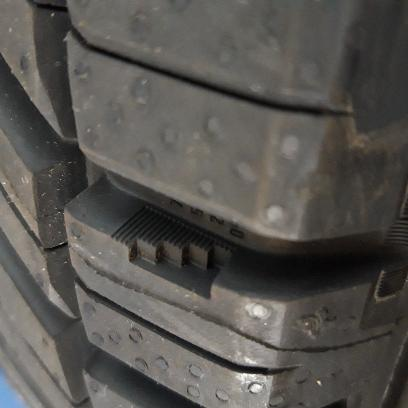temoin:100: (108, 202, 240, 304)
